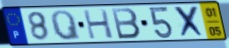5: (147, 6, 174, 40)
8: (27, 10, 52, 42)
B: (110, 7, 143, 41)
H: (82, 8, 116, 40)
Q: (50, 9, 83, 41)
X: (173, 5, 207, 40)
